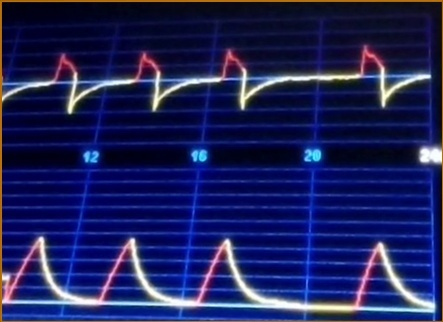Normal Flow: (4, 26, 430, 125)
Normal Volume: (2, 221, 432, 315)
